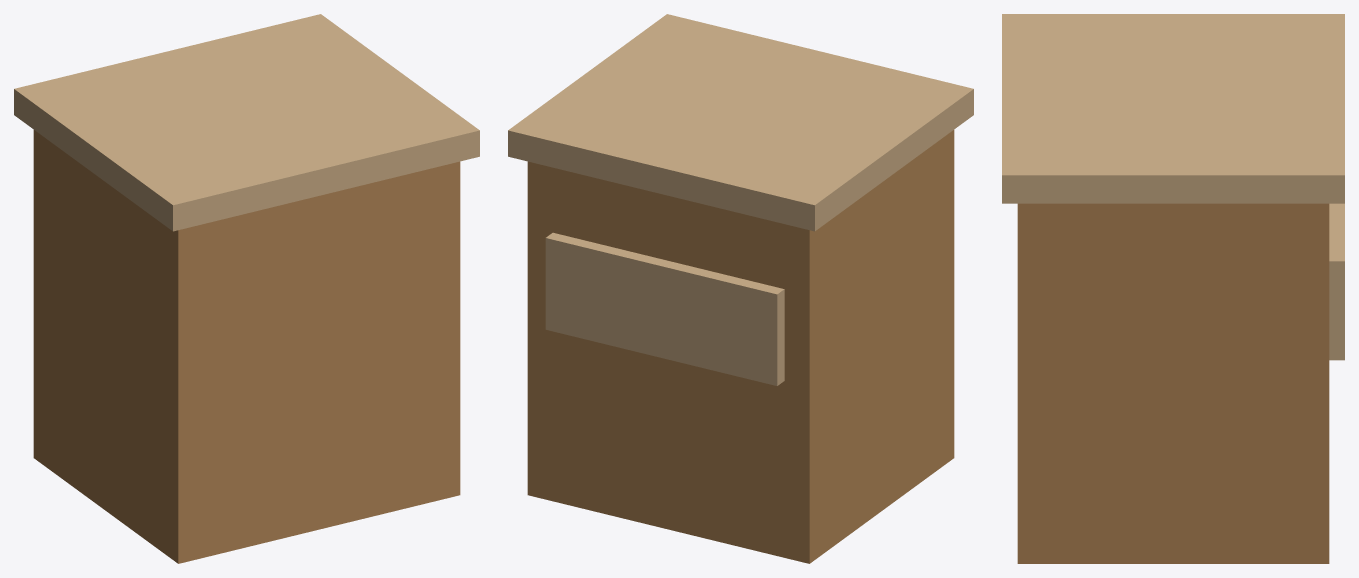
The picture shows the model from 3 angles, left to right: view 1: azimuth 30°, elevation 25°; view 2: azimuth 150°, elevation 25°; view 3: azimuth 270°, elevation 25°; orthographic projection. The views are drawn at different scales.
Visible parts, largest first — view 1: veladora_dorm2_b; view 2: veladora_dorm2_b; view 3: veladora_dorm2_b.
Part boxes in pixels (box(x1,y1,x2,y2)): veladora_dorm2_b: box(14, 14, 479, 563); veladora_dorm2_b: box(508, 14, 973, 563); veladora_dorm2_b: box(1002, 14, 1344, 563).
Bounding box in the file's own units: 0.49 × 0.44 × 0.56.
